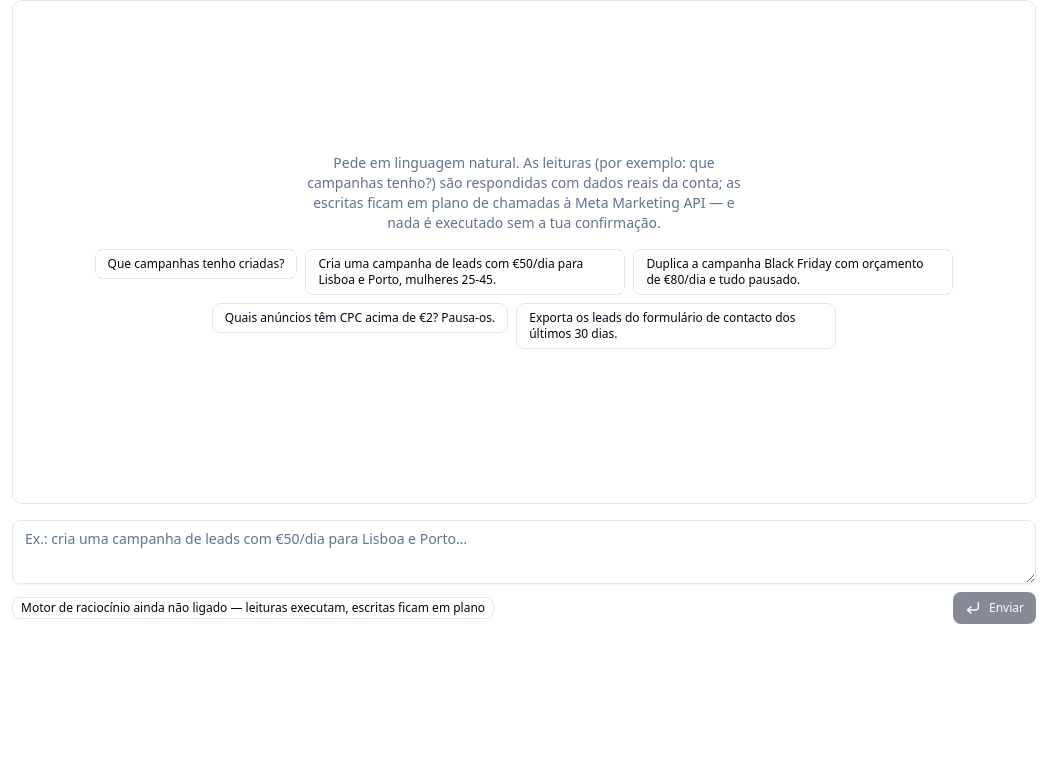
Scenario: ChatPanel › surfaces a thrown transport failure
Type "x" into the text box named "Mensagem para o agente" at (524, 552), box x1=12 y1=520 x2=1036 y2=584
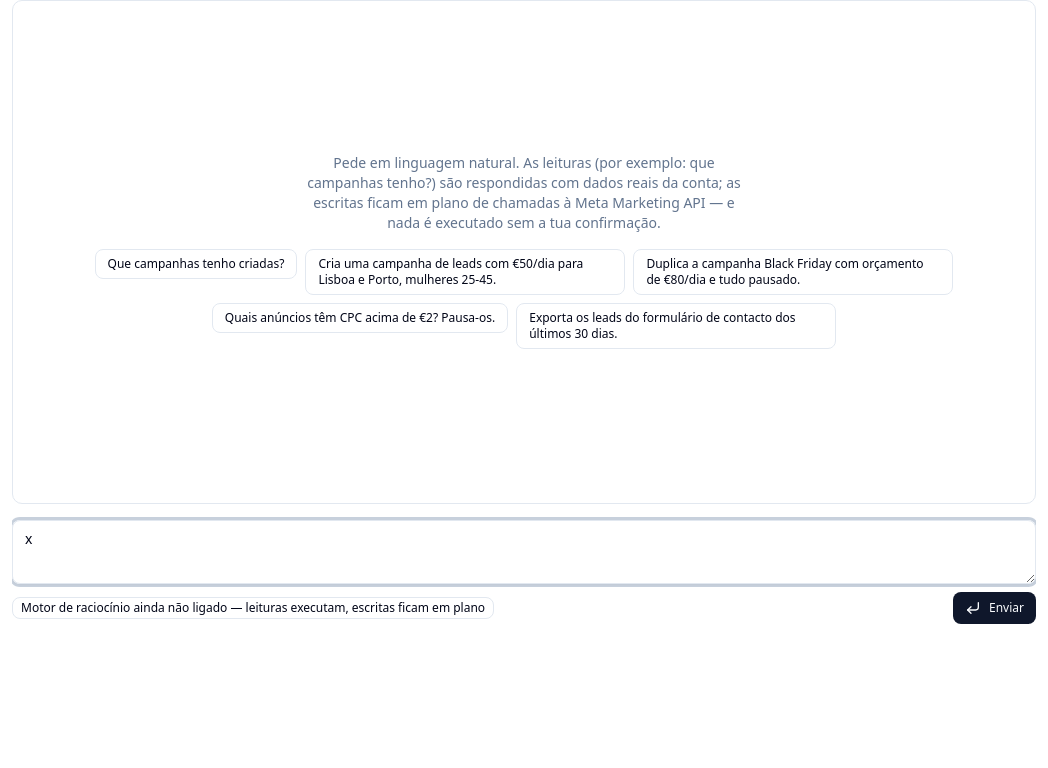
Click the button "Enviar" at (994, 608), box x1=953 y1=592 x2=1036 y2=624
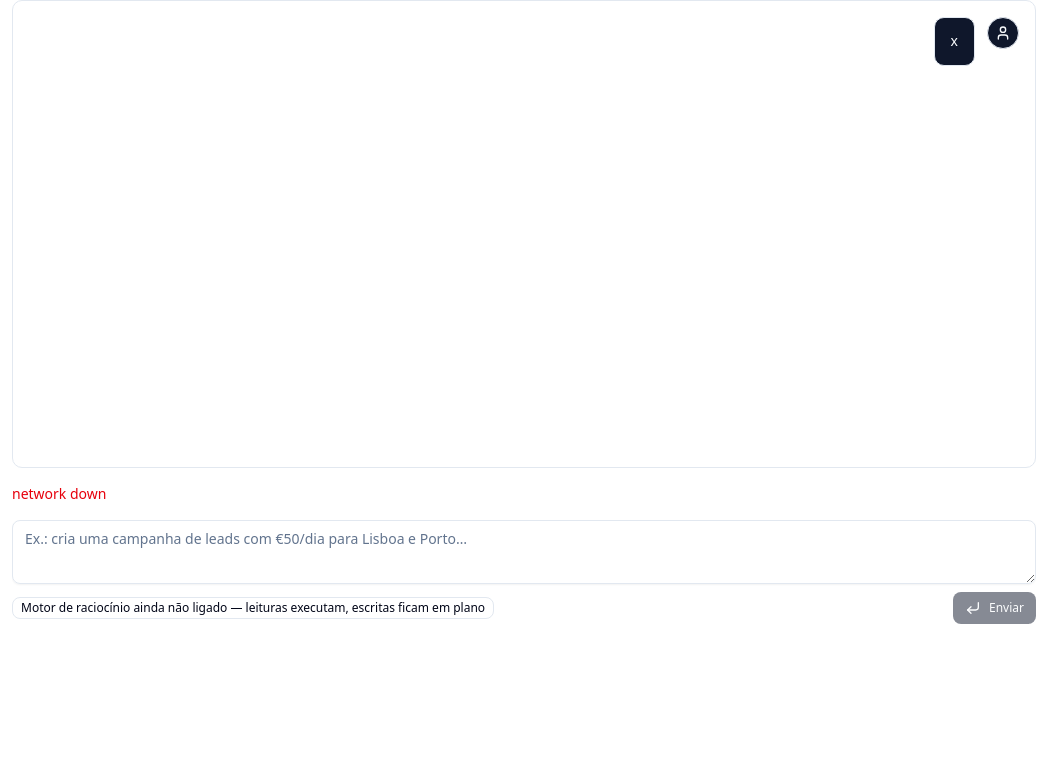
Now the message reads "network down", box x1=12 y1=484 x2=106 y2=503
